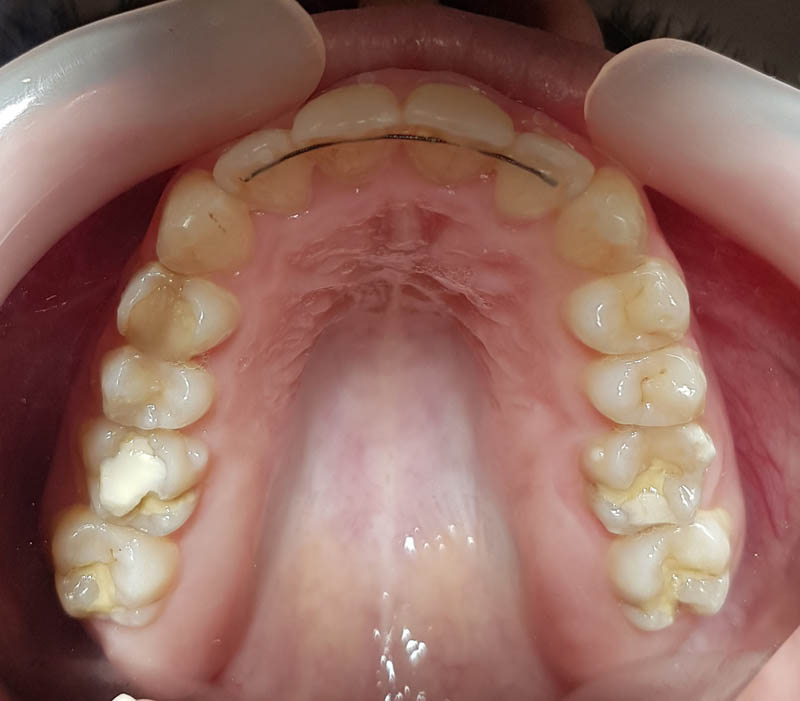UL1BC_healthy: (562, 259, 686, 360)
UL1M_healthy: (583, 419, 714, 540)
UL2BC_healthy: (585, 343, 704, 430)
UL2M_healthy: (608, 511, 733, 634)
ULCI_decay: (401, 83, 513, 177)
ULC_healthy: (552, 172, 645, 272)
ULLI_decay: (494, 137, 586, 222)
UR1BC_decay: (116, 262, 243, 360)
UR1M_healthy: (83, 422, 210, 539)
UR2BC_healthy: (100, 346, 220, 431)
UR2M_healthy: (50, 518, 180, 629)
URCI_decay: (293, 82, 402, 176)
URC_healthy: (155, 169, 260, 275)
URLI_decay: (213, 128, 318, 215)
